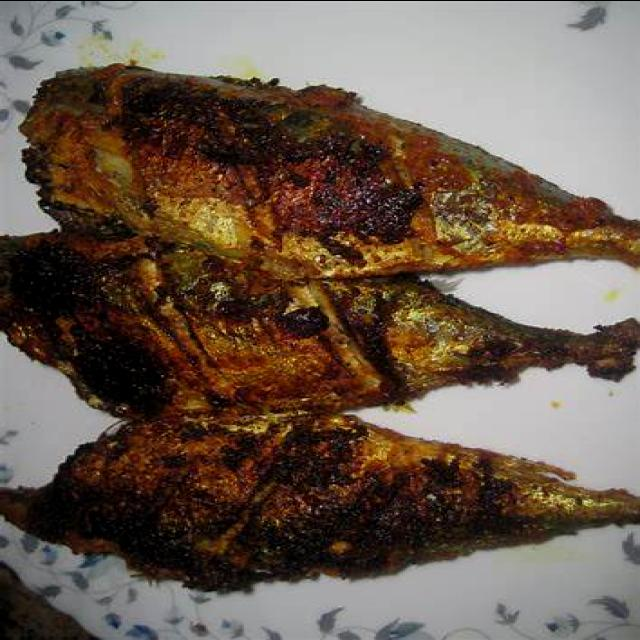ikan bakar: (20, 62, 640, 278), (0, 227, 631, 424), (11, 412, 640, 591)
